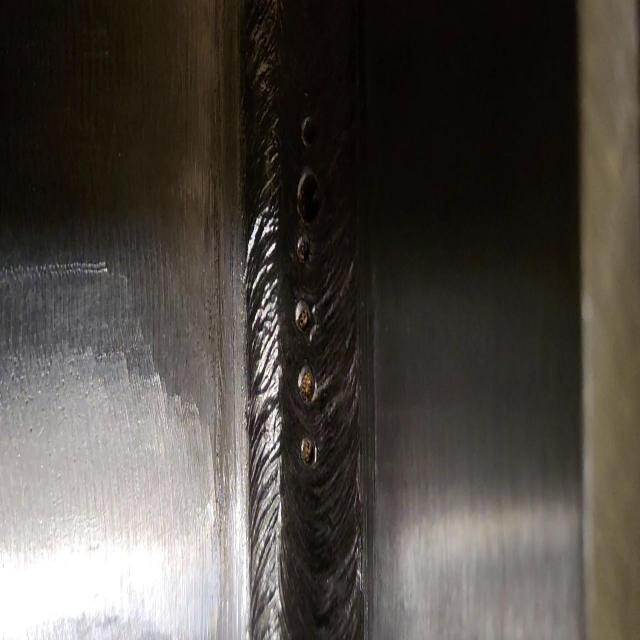Welding Line: (244, 0, 365, 640)
Workpiece: (4, 2, 640, 640)
porosity: (292, 112, 322, 471)
